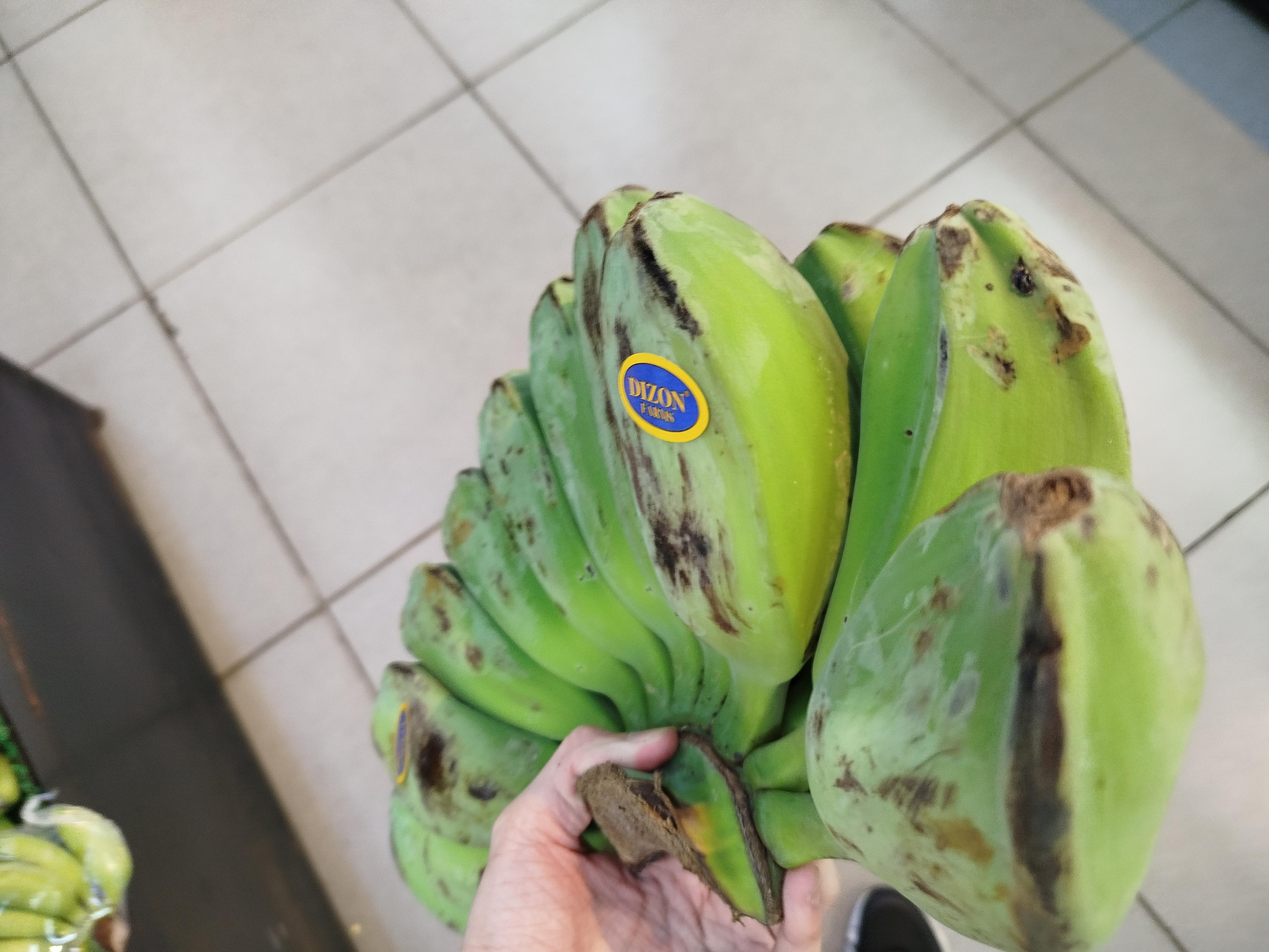underripe: (373, 190, 1204, 952)
